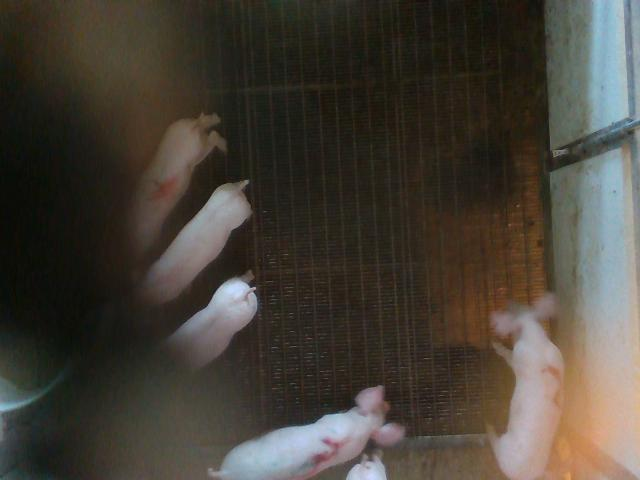pig-2: (489, 294, 564, 478)
pig-3: (209, 386, 404, 479)
pig-4: (134, 114, 226, 249)
